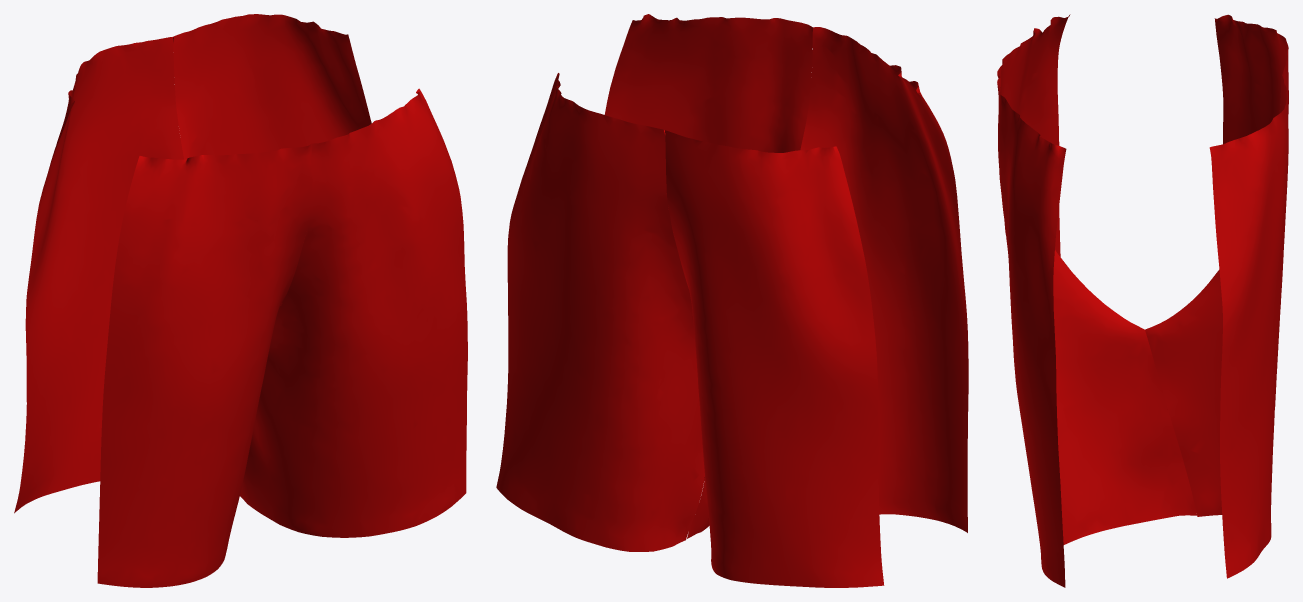
File: body.glb
The picture shows the model from 3 angles, left to right: view 1: azimuth 30°, elevation 25°; view 2: azimuth 150°, elevation 25°; view 3: azimuth 270°, elevation 25°; orthographic projection. The views are drawn at different scales.
Parts seen in each view (by area): view 1: body; view 2: body; view 3: body.
Boxes of the visible parts, bbox=[...] form: body: bbox=[14, 14, 467, 587]; body: bbox=[496, 14, 968, 587]; body: bbox=[997, 14, 1288, 587].
Size of the model in its own units: 1.8 by 2.02 by 1.21.
